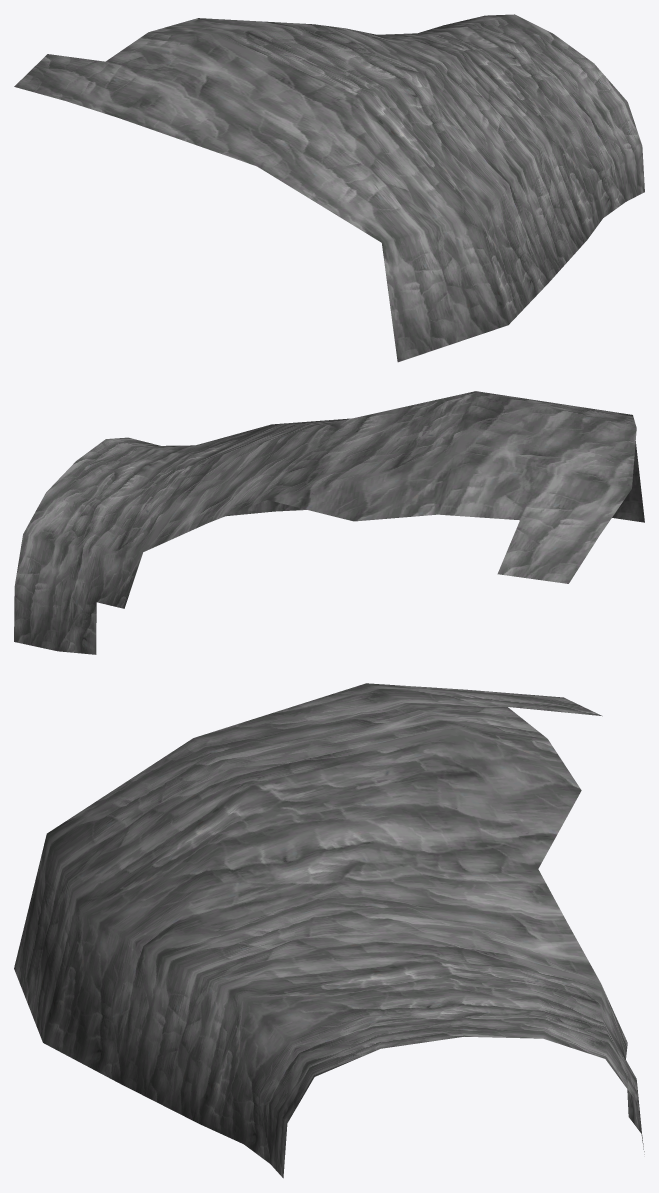
File: SWORDLIGHT20_PS-AREA02_04.fbx
3 renders of one model, top to bottom at view 1: azimuth 30°, elevation 25°; view 2: azimuth 150°, elevation 25°; view 3: azimuth 270°, elevation 25°, orthographic. The views are drawn at different scales.
Parts seen in each view (by area): view 1: SWORDLIGHT20_PS-AREA02_04; view 2: SWORDLIGHT20_PS-AREA02_04; view 3: SWORDLIGHT20_PS-AREA02_04.
Boxes of the visible parts, x1,y1,x2,y2 form: SWORDLIGHT20_PS-AREA02_04: [14, 14, 644, 362]; SWORDLIGHT20_PS-AREA02_04: [14, 391, 644, 654]; SWORDLIGHT20_PS-AREA02_04: [14, 683, 644, 1178].
Size of the model in its own units: 137062 by 50276 by 120127.
1 material, 1 textured.
